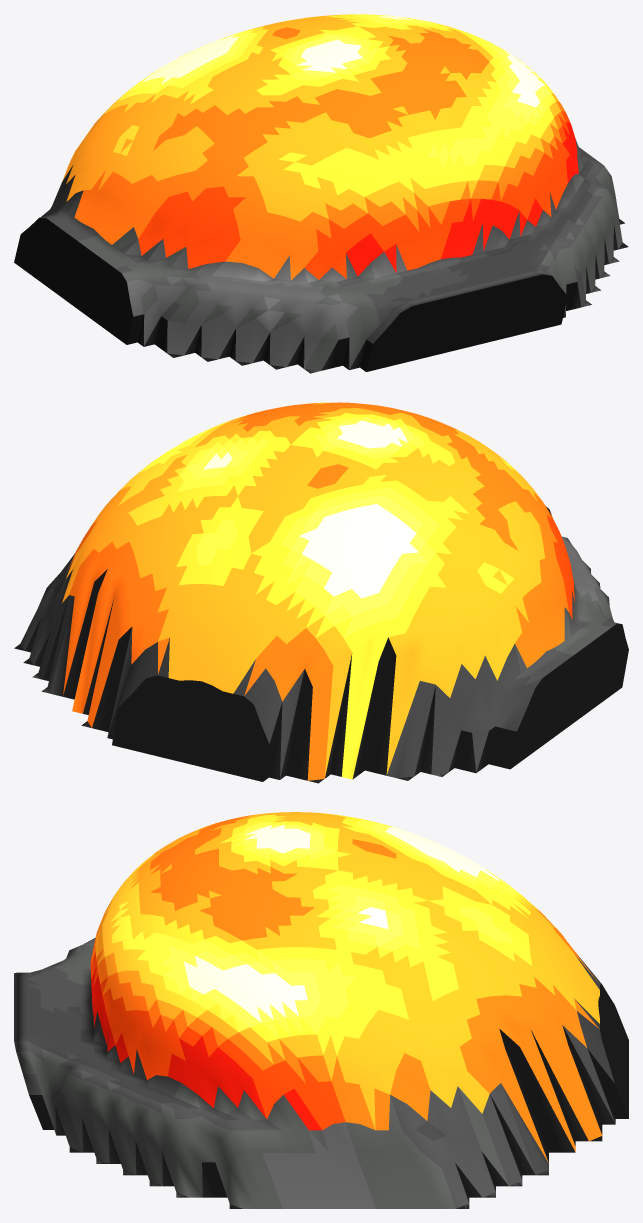
The model's file is dome_magma_207.glb.
3 views of the same model, one above another, from view 1: azimuth 30°, elevation 25°; view 2: azimuth 150°, elevation 25°; view 3: azimuth 270°, elevation 25° (orthographic). The views are drawn at different scales.
Visible parts, largest first — view 1: dome_magma_207; view 2: dome_magma_207; view 3: dome_magma_207.
Boxes of the visible parts, x1,y1,x2,y2 form: dome_magma_207: [14, 14, 628, 373]; dome_magma_207: [14, 402, 628, 783]; dome_magma_207: [14, 812, 628, 1208].
Bounding box in the file's own units: 23 × 9.6 × 23.09.
